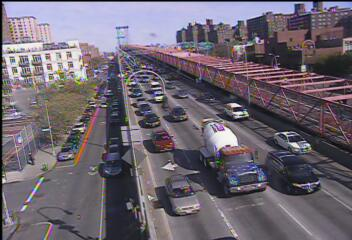neg: (84, 137, 96, 154), (199, 89, 211, 105)
pos: (23, 149, 34, 164)
